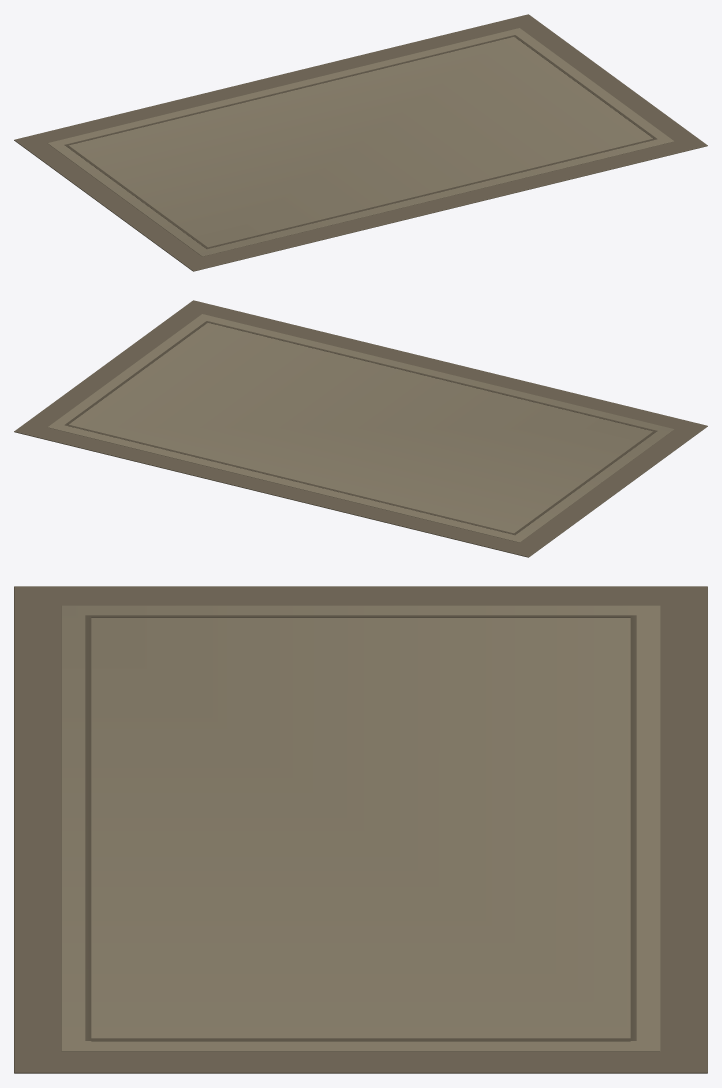
File: courtyard_rug_dining.gltf
The picture shows the model from 3 angles, top to bottom: view 1: azimuth 30°, elevation 25°; view 2: azimuth 150°, elevation 25°; view 3: azimuth 270°, elevation 25°; orthographic projection. The views are drawn at different scales.
Parts seen in each view (by area): view 1: CourtyardRugDining_Body, CourtyardRugDining_Border, CourtyardRugDining_Stripe0, CourtyardRugDining_Stripe1, CourtyardRugDining_Stripe2, CourtyardRugDining_Stripe3; view 2: CourtyardRugDining_Body, CourtyardRugDining_Border, CourtyardRugDining_Stripe1, CourtyardRugDining_Stripe0, CourtyardRugDining_Stripe2, CourtyardRugDining_Stripe3; view 3: CourtyardRugDining_Body, CourtyardRugDining_Border, CourtyardRugDining_Stripe0, CourtyardRugDining_Stripe1, CourtyardRugDining_Stripe3, CourtyardRugDining_Stripe2.
Part boxes in pixels (left/top/right/bottom): CourtyardRugDining_Body: left=47, top=28, right=674, bottom=256; CourtyardRugDining_Border: left=14, top=14, right=707, bottom=271; CourtyardRugDining_Stripe0: left=205, top=138, right=657, bottom=248; CourtyardRugDining_Stripe1: left=64, top=35, right=516, bottom=145; CourtyardRugDining_Stripe2: left=66, top=145, right=207, bottom=247; CourtyardRugDining_Stripe3: left=514, top=36, right=655, bottom=138; CourtyardRugDining_Body: left=47, top=314, right=674, bottom=542; CourtyardRugDining_Border: left=14, top=300, right=707, bottom=557; CourtyardRugDining_Stripe1: left=64, top=424, right=516, bottom=534; CourtyardRugDining_Stripe0: left=205, top=321, right=657, bottom=431; CourtyardRugDining_Stripe2: left=514, top=431, right=655, bottom=533; CourtyardRugDining_Stripe3: left=66, top=322, right=207, bottom=424; CourtyardRugDining_Body: left=61, top=605, right=660, bottom=1051; CourtyardRugDining_Border: left=14, top=586, right=707, bottom=1073; CourtyardRugDining_Stripe0: left=85, top=615, right=91, bottom=1040; CourtyardRugDining_Stripe1: left=630, top=615, right=636, bottom=1040; CourtyardRugDining_Stripe3: left=91, top=1038, right=630, bottom=1041; CourtyardRugDining_Stripe2: left=91, top=615, right=630, bottom=617.
Bounding box in the file's own units: 5.8 × 0.0158 × 3.5.
